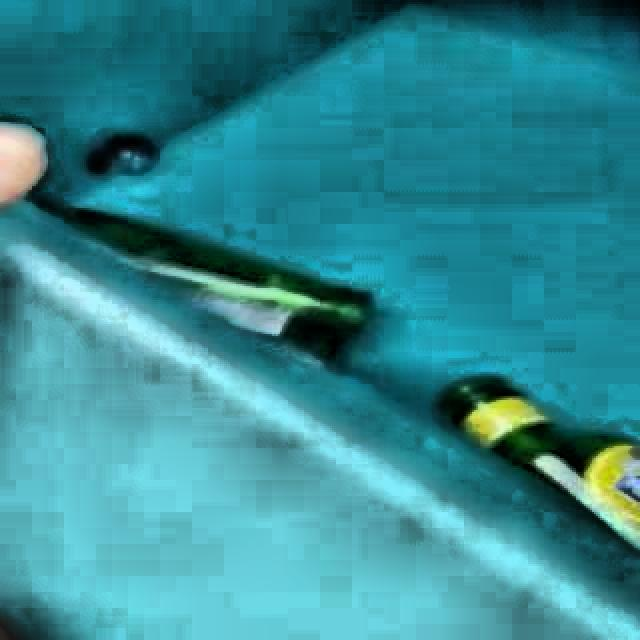glass: (48, 207, 373, 367), (440, 377, 640, 547)
